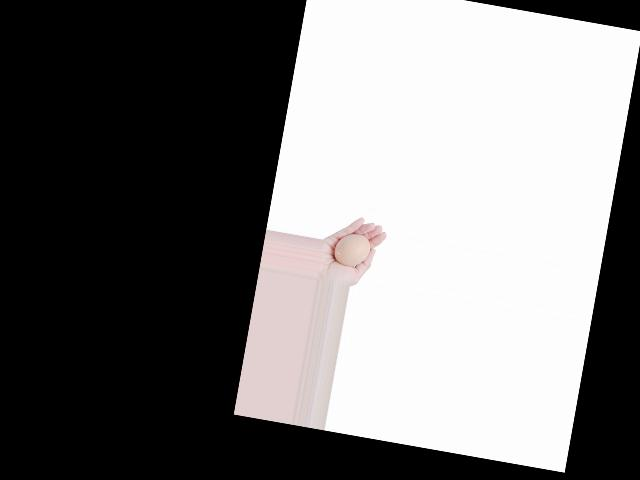egg: (332, 230, 372, 268)
